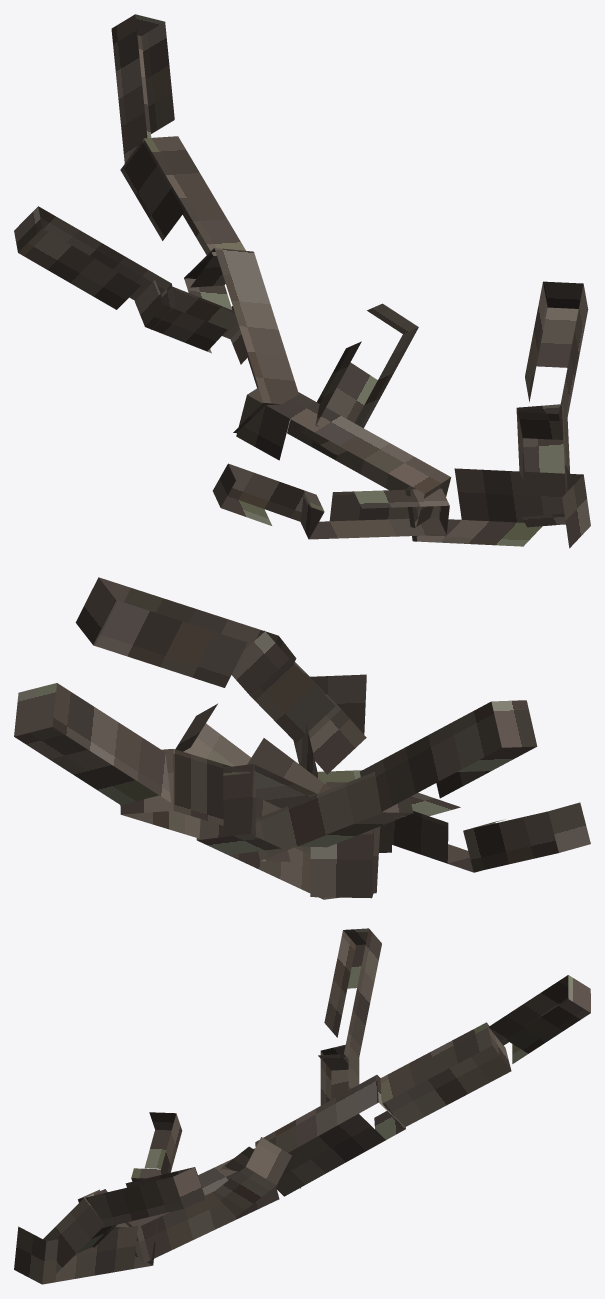
Rendered from elm_twig_branch_up_2.obj.
3 views of the same model, one above another, from view 1: azimuth 30°, elevation 25°; view 2: azimuth 150°, elevation 25°; view 3: azimuth 270°, elevation 25° (orthographic). The views are drawn at different scales.
Parts seen in each view (by area): view 1: cube; view 2: cube; view 3: cube.
Boxes of the visible parts, x1,y1,x2,y2 form: cube: (14,14,590,548); cube: (14,577,590,899); cube: (14,928,590,1284).
Bounding box in the file's own units: 2.22 × 1.51 × 2.9.
